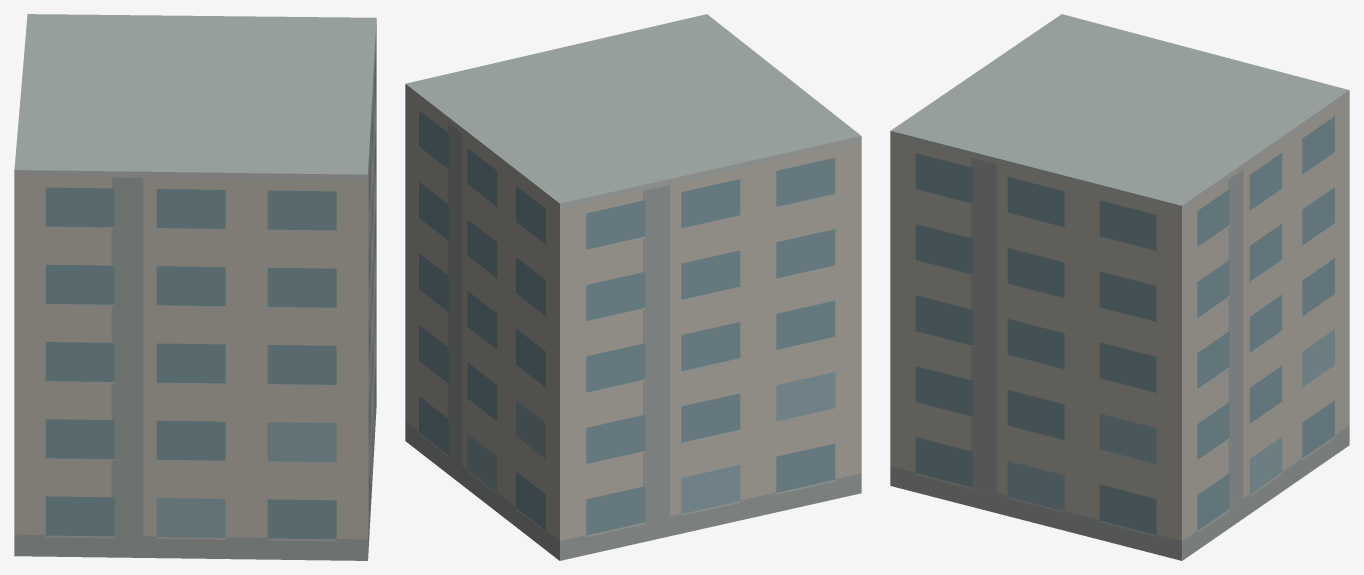
File: survey-upis-32793666.glb
3 views of the same model, side by side, from view 1: azimuth 30°, elevation 25°; view 2: azimuth 150°, elevation 25°; view 3: azimuth 270°, elevation 25° (orthographic). The views are drawn at different scales.
Parts seen in each view (by area): view 1: survey-upis-32793666.tmp; view 2: survey-upis-32793666.tmp; view 3: survey-upis-32793666.tmp.
Part boxes in pixels (x1,y1,x2,y2): survey-upis-32793666.tmp: (14,14,376,560); survey-upis-32793666.tmp: (405,14,861,560); survey-upis-32793666.tmp: (890,14,1349,560).
Bounding box in the file's own units: 16.87 × 14.55 × 17.06.
